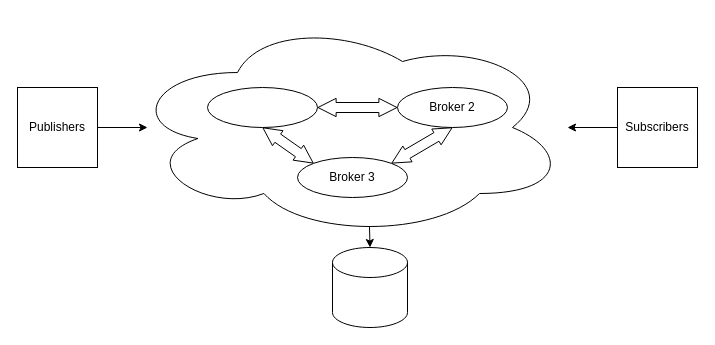
Some shapes in this 715 by 345 pixel diagram are drawn without their labels. The shapes that lost their labels are listed below. From the top down, each one's box as (x1, y1, x2, y2) in pixels, then its label:
(206, 86, 318, 128): Broker 1
(332, 246, 408, 328): Database
